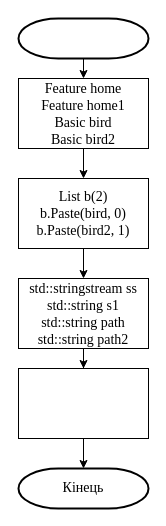
Image size: 166x526. Some labels were removed from this diagram. The box of each missing label's shape, as (x1, y1, x2, y2) in pixels:
s1 = bird.toString() b.readFromFile(path) b.writeToFile(path2): (18, 368, 148, 438)
Початок: (17, 17, 149, 59)
